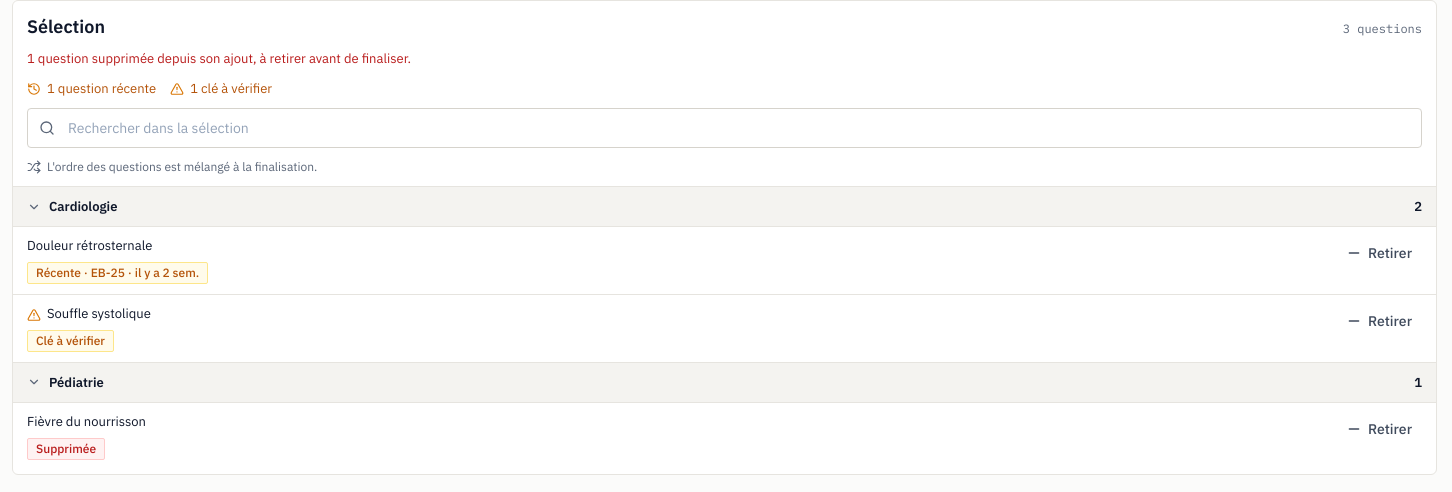
it: SelectionColumn › recherche locale : filtre, rouvre les groupes repliés, message sans résultat
Click the button "Cardiologie 2": (83, 207) [13,186,1436,226]
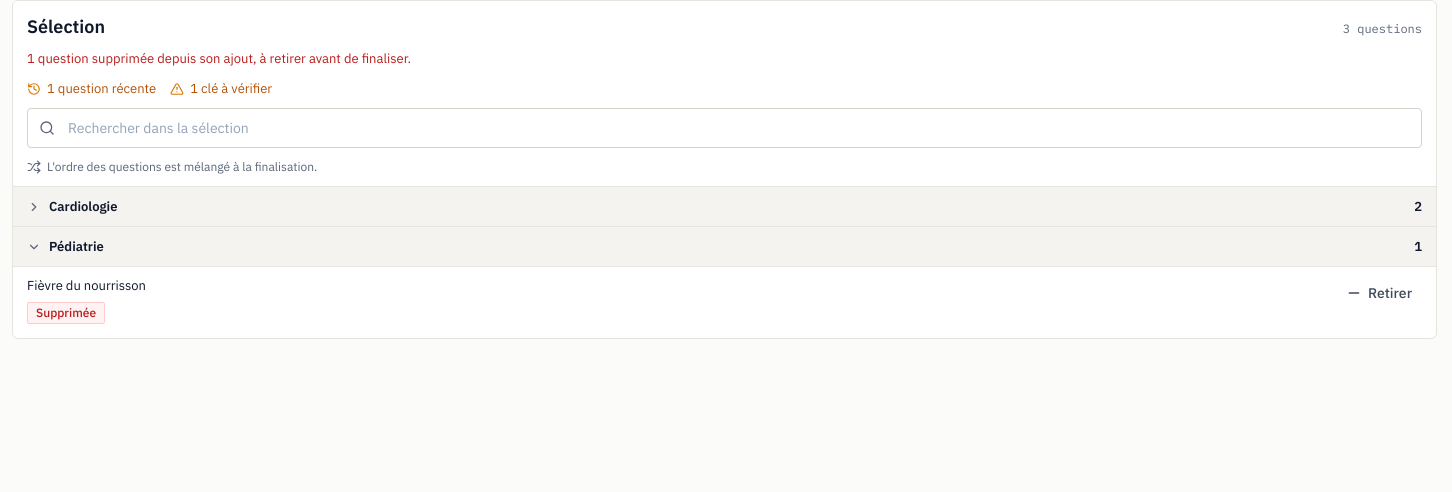
In the field with placeholder "Rechercher dans la sélection": (724, 128) [27,108,1422,148], type "souffle"
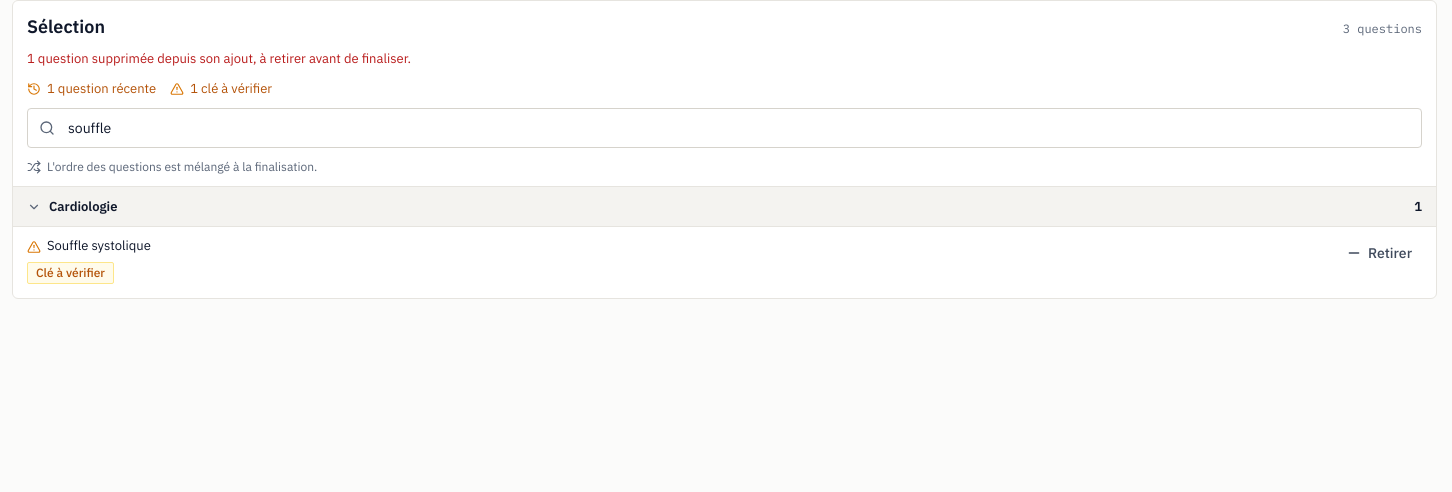
Replace the text in the field with placeholder "Rechercher dans la sélection" with "introuvable": (724, 128) [27,108,1422,148]
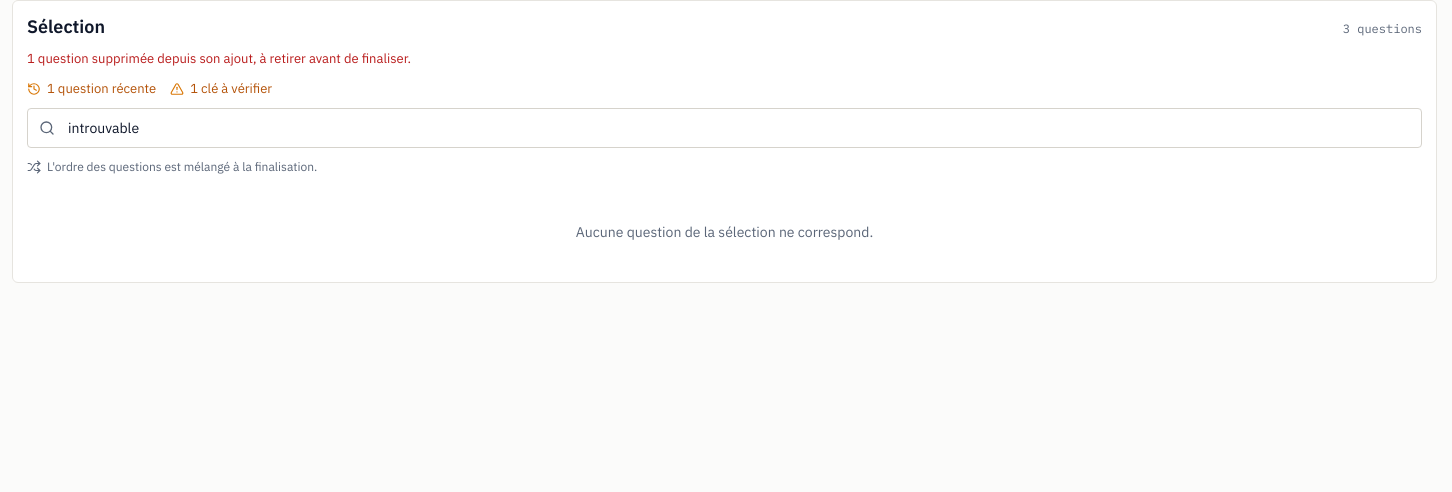
Result: the text "Aucune question de la sélection ne correspond." is shown at [576,223,873,241]
